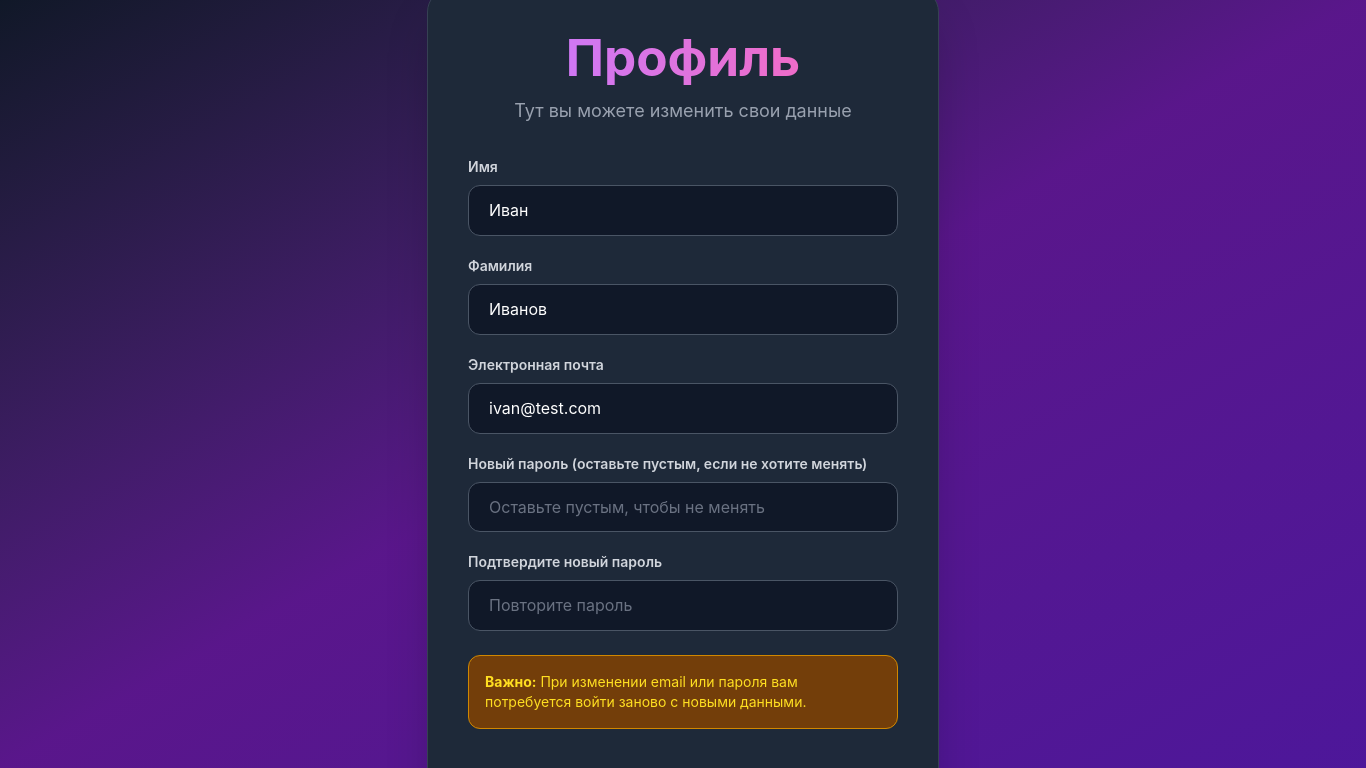
Profile Page Coverage › должен успешно обновлять данные пользователя без смены email
In the field below "Имя": (683, 211) [468,185,898,236], type "Петр"
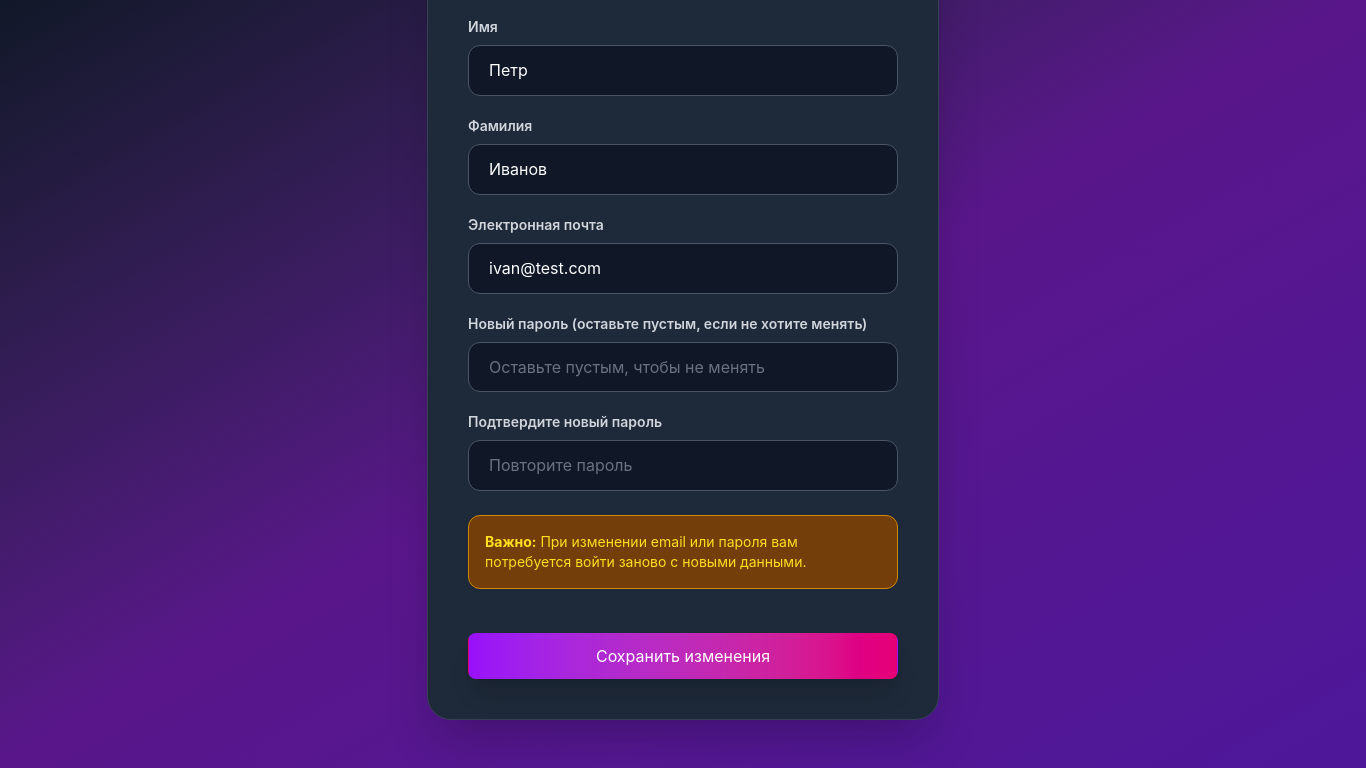
Click the button "Сохранить изменения": (683, 656) [468,633,898,679]
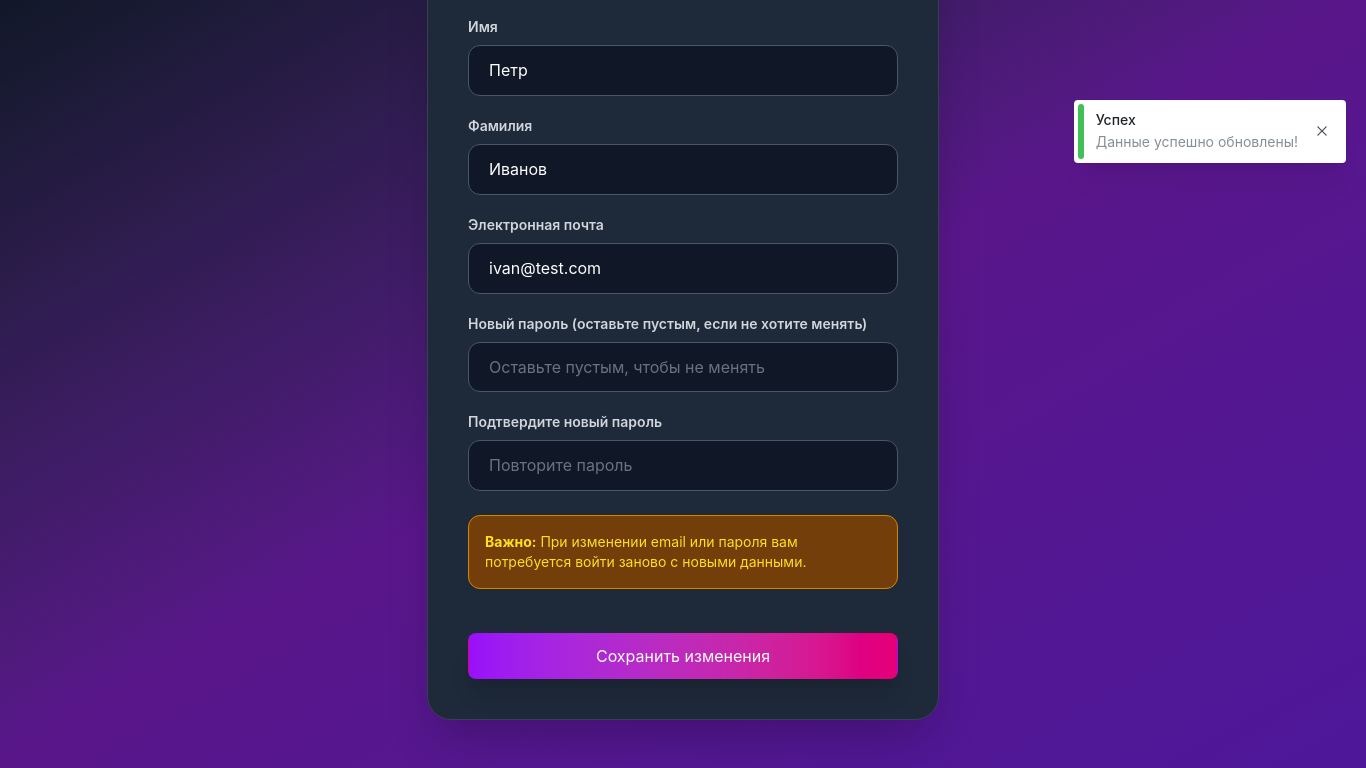
Check: the text "Данные успешно обновлены!" is shown, box [1096,132,1298,153]
